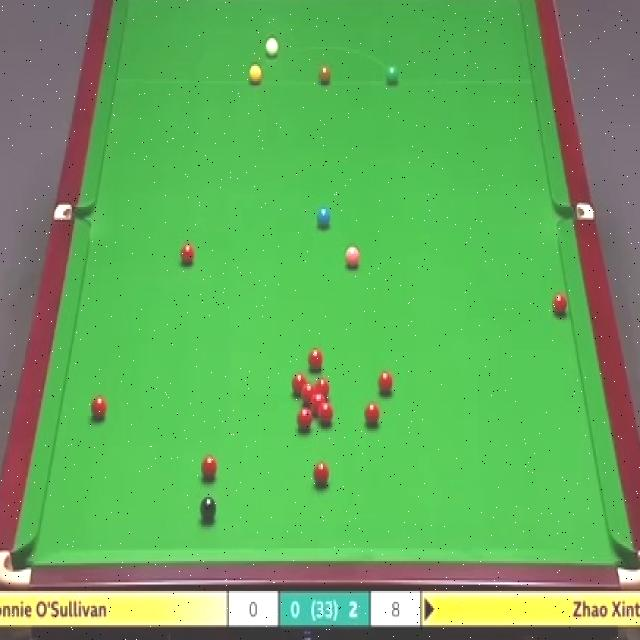black-ball: (200, 495, 219, 520)
blue-ball: (316, 204, 331, 232)
brown-ball: (318, 64, 332, 84)
green-ball: (386, 65, 400, 84)
pink-ball: (345, 247, 361, 271)
red-ball: (88, 392, 106, 420), (313, 460, 331, 488), (290, 370, 309, 396), (306, 347, 326, 371), (551, 292, 568, 319), (363, 402, 381, 427), (201, 454, 219, 479), (296, 406, 312, 432), (376, 371, 394, 394), (314, 378, 330, 403), (300, 384, 318, 406), (317, 404, 334, 427), (180, 245, 195, 264), (310, 394, 325, 412)
white-ball: (263, 36, 280, 56)
yellow-ball: (248, 64, 262, 84)
